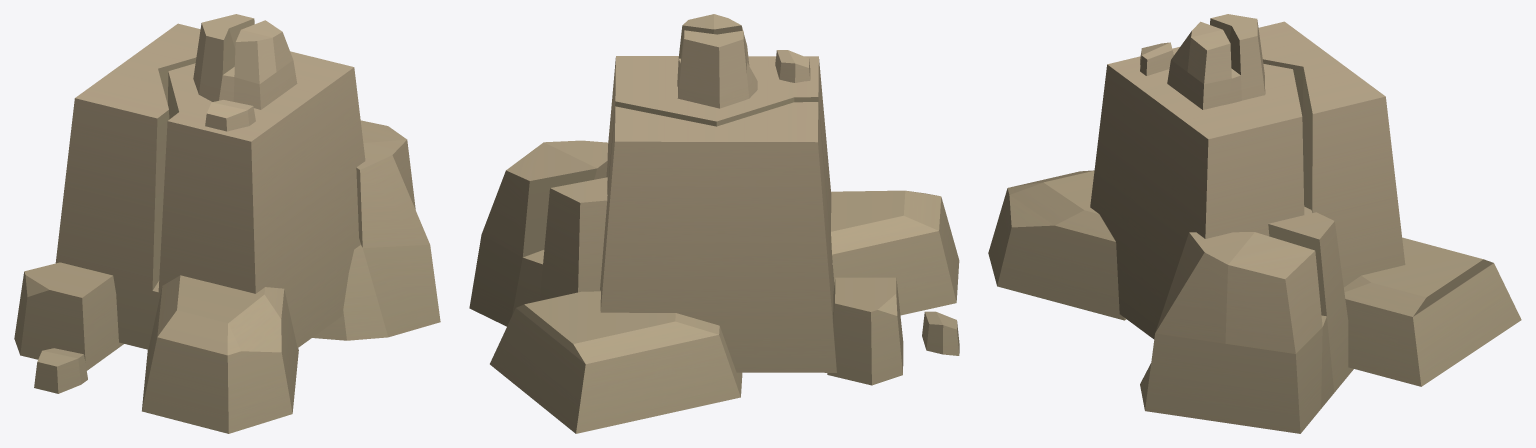
The model's file is Rock+7.fbx.
3 renders of one model, left to right at view 1: azimuth 30°, elevation 25°; view 2: azimuth 150°, elevation 25°; view 3: azimuth 270°, elevation 25°, orthographic.
Visible parts, largest first — view 1: Rock 7; view 2: Rock 7; view 3: Rock 7.
Boxes of the visible parts, x1=… form: Rock 7: x1=14, y1=14, x2=440, y2=433; Rock 7: x1=469, y1=14, x2=959, y2=433; Rock 7: x1=988, y1=14, x2=1521, y2=433.
Size of the model in its own units: 259 by 172 by 275.
